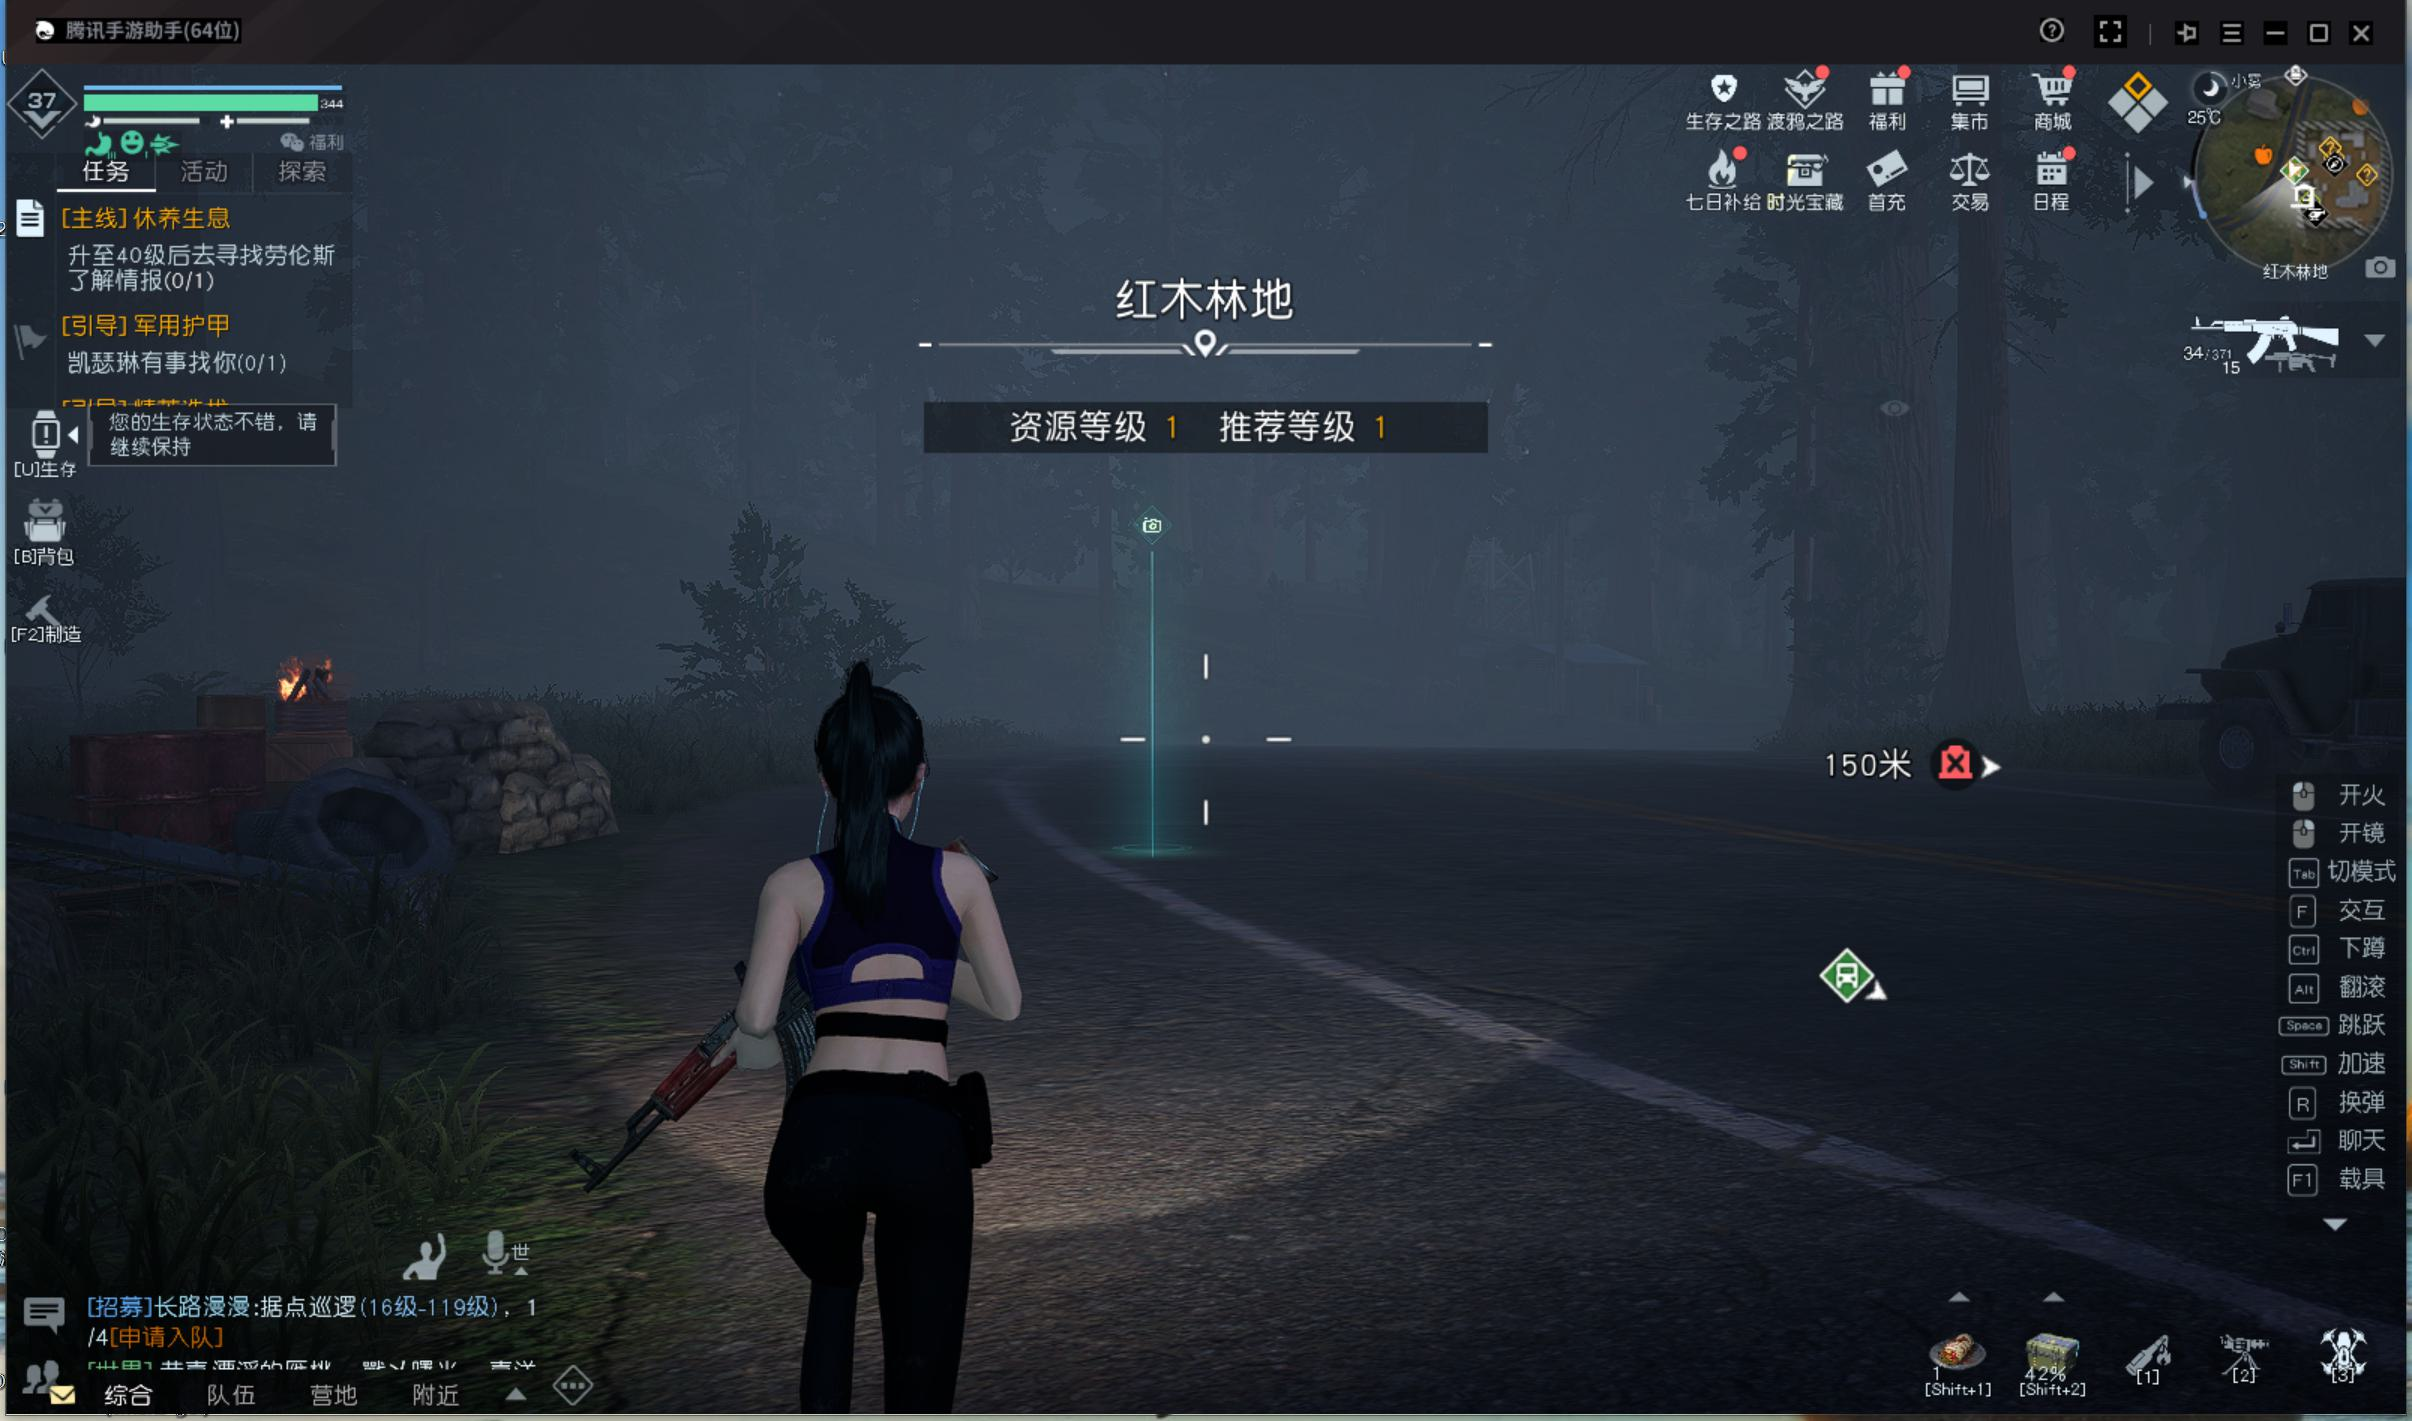tree: (1932, 245, 2048, 716), (934, 474, 996, 663), (1077, 499, 1125, 699)
